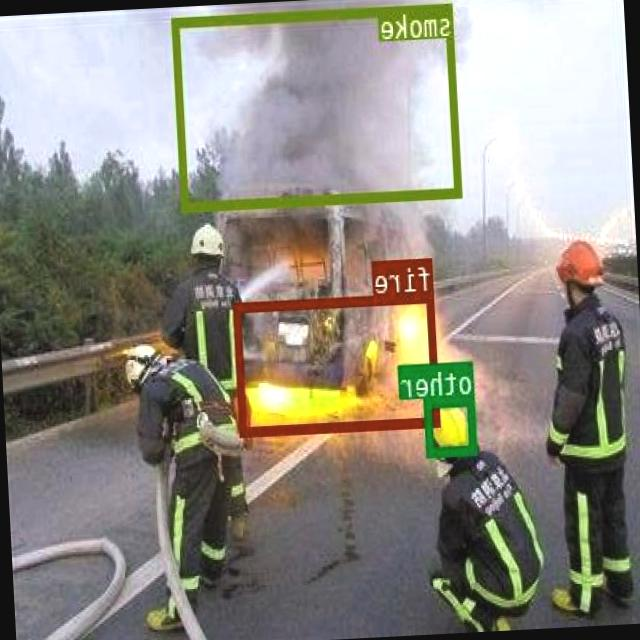fire: (236, 291, 442, 434)
smoke: (174, 2, 464, 210)
